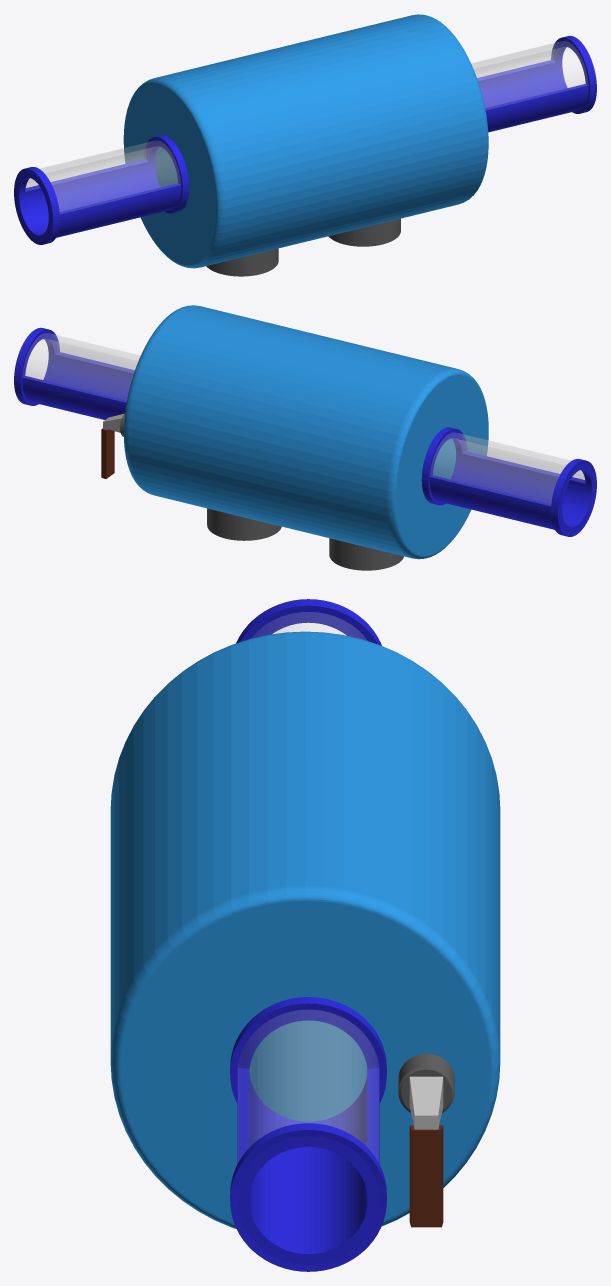
The model's file is tank.fbx.
3 views of the same model, one above another, from view 1: azimuth 30°, elevation 25°; view 2: azimuth 150°, elevation 25°; view 3: azimuth 270°, elevation 25° (orthographic). The views are drawn at different scales.
Parts seen in each view (by area): view 1: Cylinder.003, pipe.004, pipe, leg minus, leg plus; view 2: Cylinder.003, pipe.004, pipe, leg minus, leg plus, tap; view 3: Cylinder.003, pipe, tap, pipe.004, tap1.
Part boxes in pixels (bbox=[...]): Cylinder.003: bbox=[123, 14, 488, 268]; pipe.004: bbox=[14, 135, 189, 244]; pipe: bbox=[471, 36, 596, 132]; leg minus: bbox=[206, 248, 278, 276]; leg plus: bbox=[328, 218, 400, 246]; Cylinder.003: bbox=[123, 305, 488, 559]; pipe.004: bbox=[421, 427, 596, 536]; pipe: bbox=[14, 327, 140, 419]; leg minus: bbox=[329, 538, 403, 570]; leg plus: bbox=[207, 508, 281, 540]; tap: bbox=[101, 414, 123, 478]; Cylinder.003: bbox=[110, 631, 500, 1228]; pipe: bbox=[230, 997, 386, 1271]; tap: bbox=[409, 1076, 443, 1227]; pipe.004: bbox=[236, 599, 381, 645]; tap1: bbox=[398, 1053, 454, 1112].
Size of the model in its own units: 1763 by 601 by 547.
